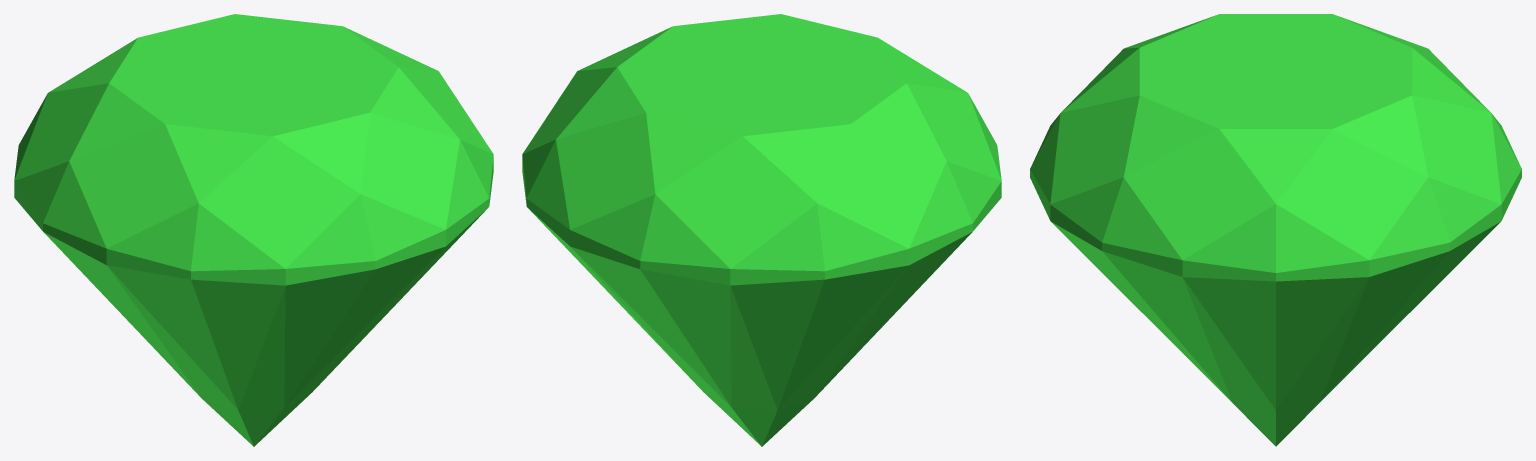
File: GreenDiamond.gltf
3 renders of one model, left to right at view 1: azimuth 30°, elevation 25°; view 2: azimuth 150°, elevation 25°; view 3: azimuth 270°, elevation 25°, orthographic.
Visible parts, largest first — view 1: Diamond2; view 2: Diamond2; view 3: Diamond2.
Part boxes in pixels (bbox=[...]): Diamond2: bbox=[14, 14, 493, 446]; Diamond2: bbox=[522, 14, 1001, 446]; Diamond2: bbox=[1030, 14, 1521, 446].
Bounding box in the file's own units: 0.3503 × 0.295 × 0.3503.
